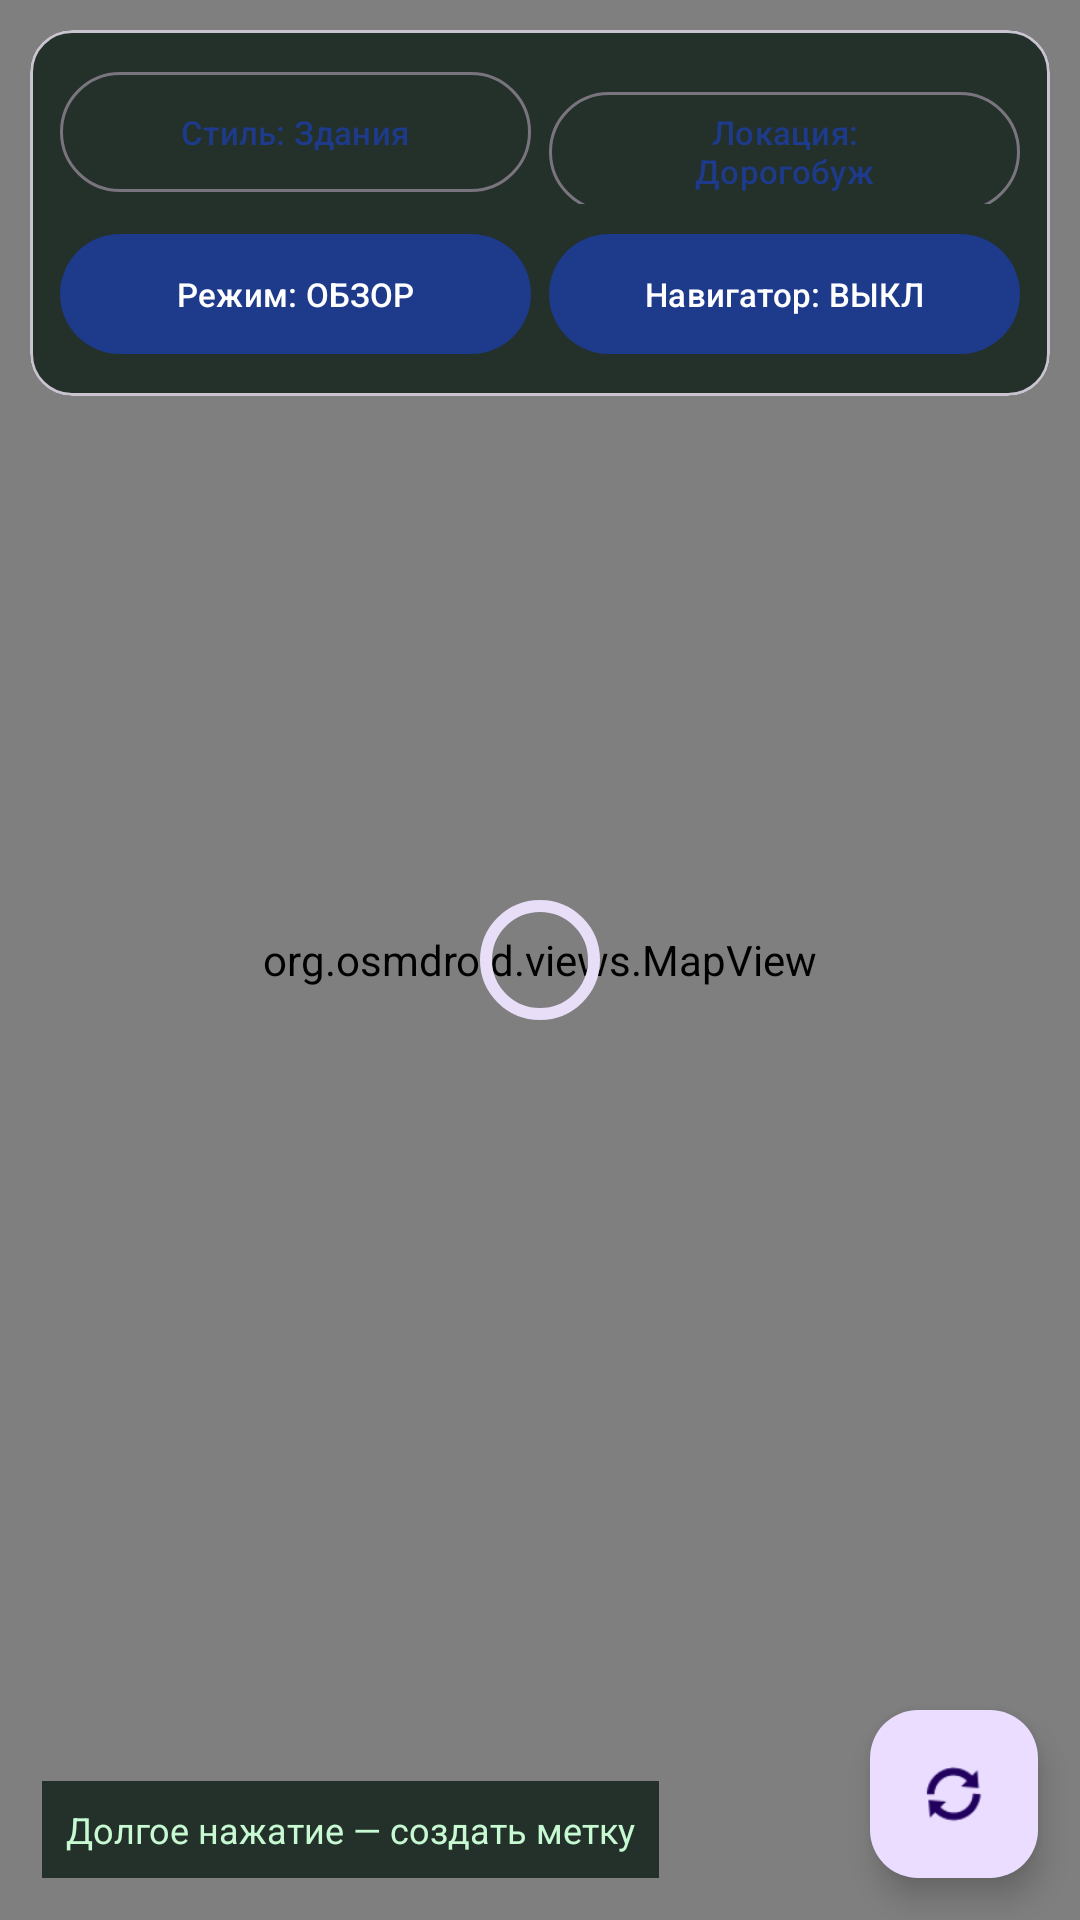

Named icons in this screenshot (1080 x 1920) and their centers, point (x, y):
refresh: point (954, 1794)
